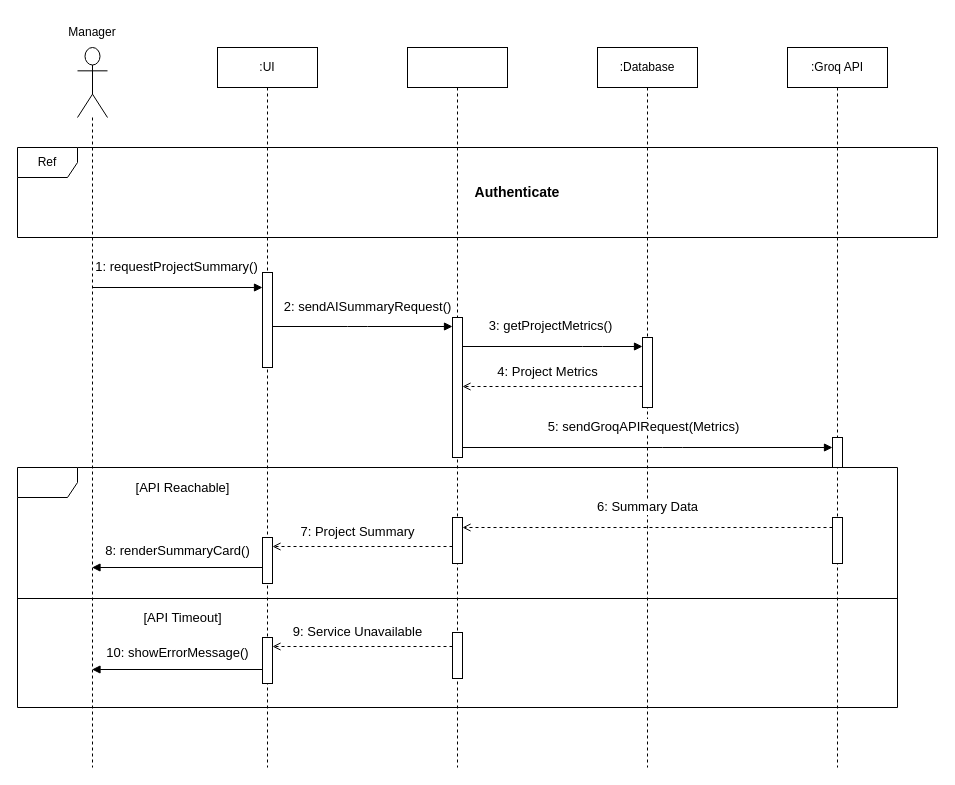
This 955x785 diagram has some shape labels left out. Each missing label, with the box of its shape:
:Backend: (406, 46, 508, 768)
Alt: (16, 466, 898, 708)
